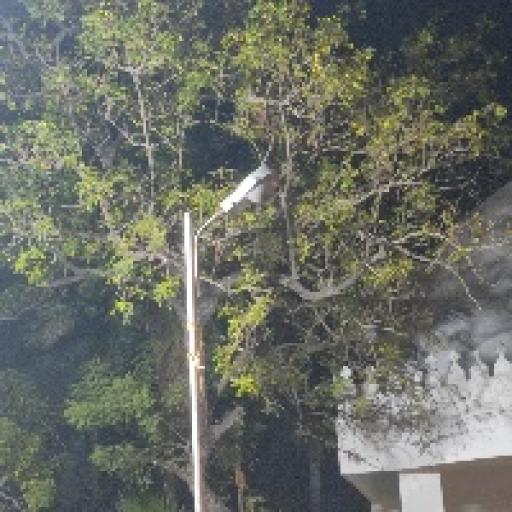Not Working: (202, 160, 281, 229)
